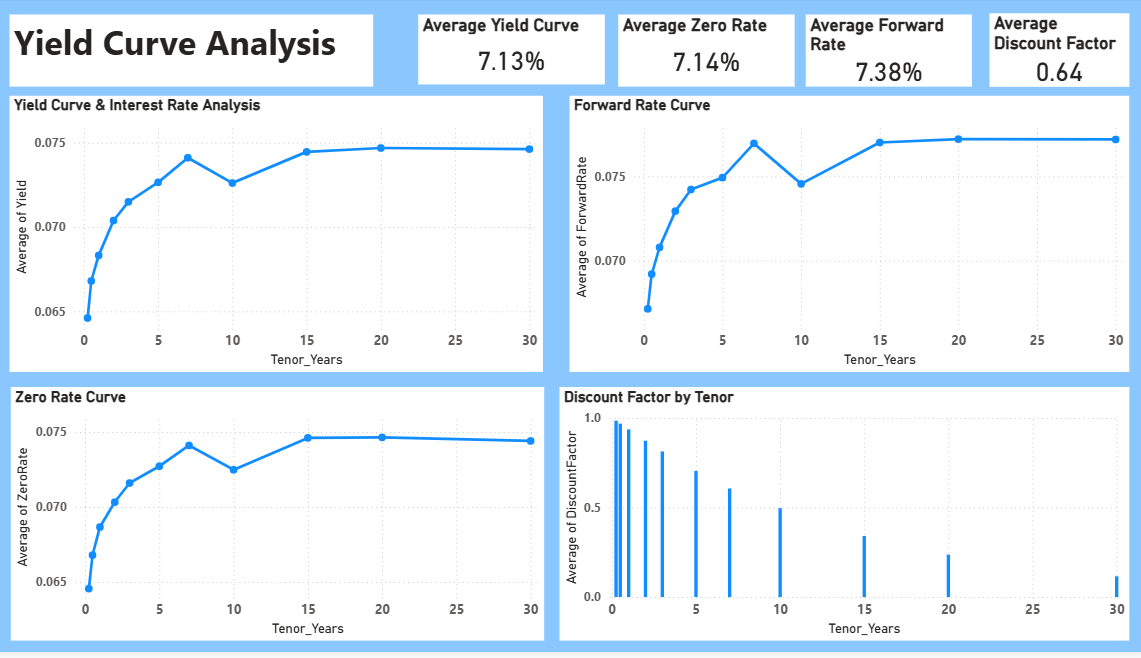

The dashboard page shown, as its layout file describes it:
{"tool":"powerbi","page":{"name":"Yield Curve Analysis","canvas":[1280,720],"ordinal":1},"visuals":[{"type":"textbox","box":[24.7,19.2,399.3,79.6],"z":0},{"type":"card","title":"Average Forward Rate","fields":{"Values":["yield_curve_history.Average Forward Rate"]},"box":[898.8,19.2,182.5,79.6],"z":1000},{"type":"card","title":"Average Yield Curve","fields":{"Values":["yield_curve_history.Average Yield Curve"]},"box":[473.4,19.2,204.5,76.8],"z":2000},{"type":"card","title":"Average Discount Factor","fields":{"Values":["yield_curve_history.Average Discount Factor"]},"box":[1100.5,17.8,153.7,81],"z":3000},{"type":"card","title":"Average Zero Rate","fields":{"Values":["yield_curve_history.Average Zero Rate"]},"box":[693,19.2,193.5,79.6],"z":4000},{"type":"lineChart","title":"Yield Curve & Interest Rate Analysis","fields":{"Category":["yield_curve_history.Tenor_Years"],"Y":["Avg(yield_curve_history.Yield)"]},"box":[24.7,108.4,585.9,303.3],"z":5000},{"type":"lineChart","title":"Zero Rate Curve","fields":{"Category":["yield_curve_history.Tenor_Years"],"Y":["Avg(yield_curve_history.ZeroRate)"]},"box":[26.1,428.1,585.9,278.6],"z":6000},{"type":"lineChart","title":"Forward Rate Curve","fields":{"Category":["yield_curve_history.Tenor_Years"],"Y":["Avg(yield_curve_history.ForwardRate)"]},"box":[639.5,108.4,614.8,303.3],"z":7000},{"type":"clusteredColumnChart","title":"Discount Factor by Tenor","fields":{"Category":["yield_curve_history.Tenor_Years"],"Y":["Avg(yield_curve_history.DiscountFactor)"]},"box":[628.5,428.1,625.7,278.6],"z":8000}]}

Visuals, with their boxes in screenshot pixels (x1, y1, x2, y2), scaled from the page's 1280x720 canvas onto the 1141x658 screenshot:
textbox: (left=22, top=18, right=378, bottom=90)
"Average Forward Rate" card: (left=801, top=18, right=964, bottom=90)
"Average Yield Curve" card: (left=422, top=18, right=604, bottom=88)
"Average Discount Factor" card: (left=981, top=16, right=1118, bottom=90)
"Average Zero Rate" card: (left=618, top=18, right=790, bottom=90)
"Yield Curve & Interest Rate Analysis" lineChart: (left=22, top=99, right=544, bottom=376)
"Zero Rate Curve" lineChart: (left=23, top=391, right=546, bottom=646)
"Forward Rate Curve" lineChart: (left=570, top=99, right=1118, bottom=376)
"Discount Factor by Tenor" clusteredColumnChart: (left=560, top=391, right=1118, bottom=646)
